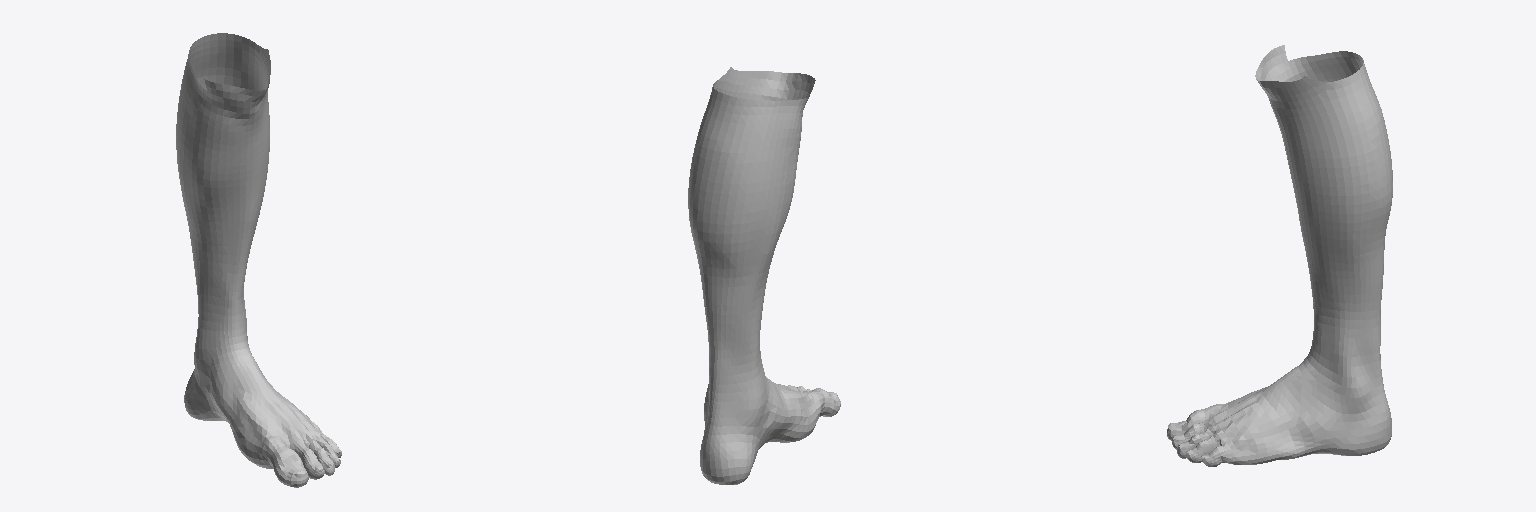
The model's file is left_calf.obj.
3 renders of one model, left to right at view 1: azimuth 30°, elevation 25°; view 2: azimuth 150°, elevation 25°; view 3: azimuth 270°, elevation 25°, orthographic.
Parts seen in each view (by area): view 1: 000_Male_base_-_piece_5; view 2: 000_Male_base_-_piece_5; view 3: 000_Male_base_-_piece_5.
Part boxes in pixels (left/top/right/bottom): 000_Male_base_-_piece_5: left=176, top=33, right=341, bottom=487; 000_Male_base_-_piece_5: left=688, top=67, right=840, bottom=484; 000_Male_base_-_piece_5: left=1167, top=45, right=1392, bottom=466.
Size of the model in its own units: 1.7 by 6.34 by 3.38.